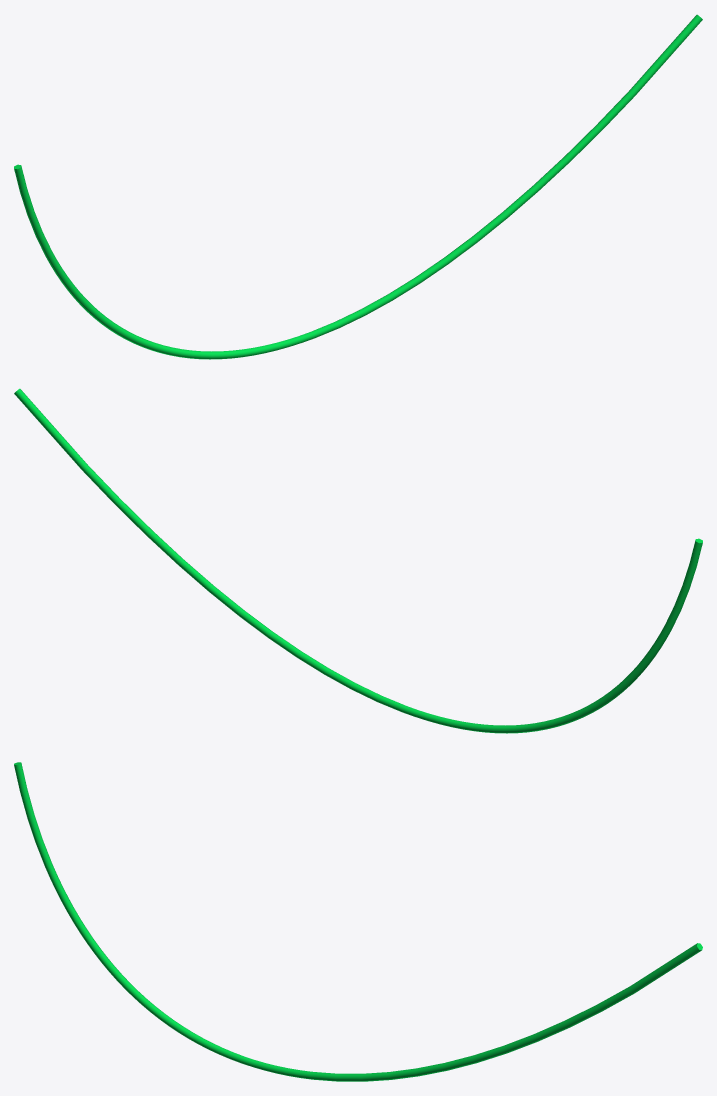
The model's file is Cable01.fbx.
3 views of the same model, one above another, from view 1: azimuth 30°, elevation 25°; view 2: azimuth 150°, elevation 25°; view 3: azimuth 330°, elevation 25° (orthographic).
Parts seen in each view (by area): view 1: Cable01; view 2: Cable01; view 3: Cable01.
Boxes of the visible parts, bbox=[...] form: Cable01: bbox=[14, 14, 702, 359]; Cable01: bbox=[14, 388, 702, 733]; Cable01: bbox=[14, 762, 702, 1081].
Bounding box in the file's own units: 739 × 254 × 6.93.
